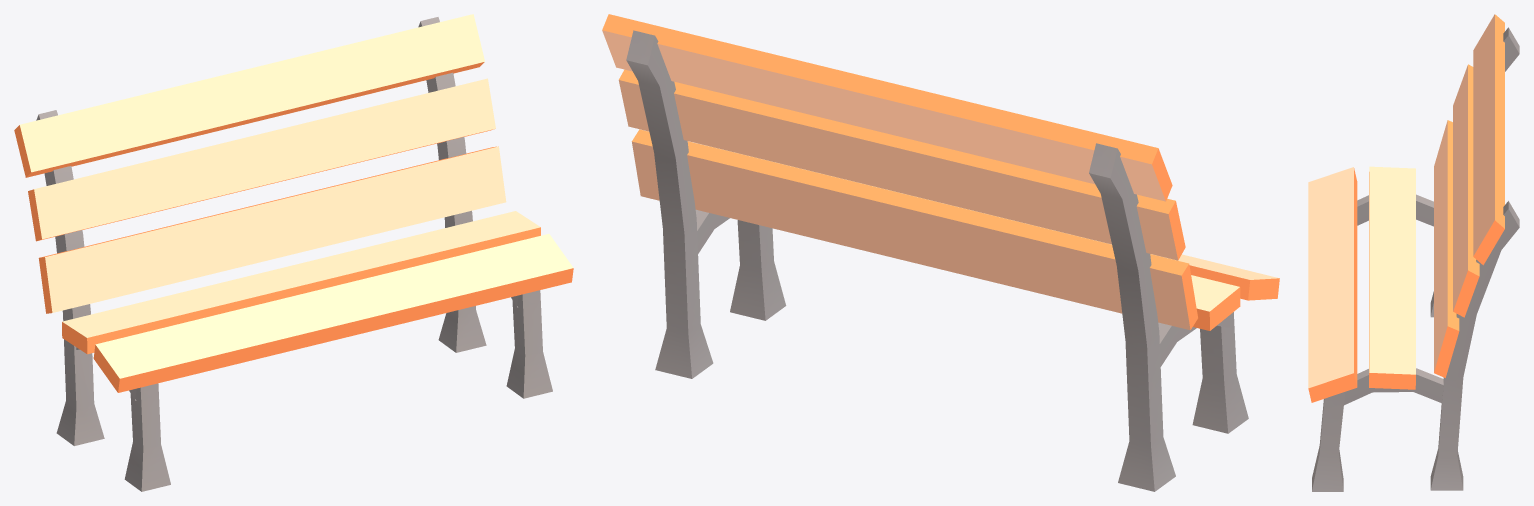
The model's file is city2-bench-01.glb.
3 views of the same model, side by side, from view 1: azimuth 30°, elevation 25°; view 2: azimuth 150°, elevation 25°; view 3: azimuth 270°, elevation 25° (orthographic). The views are drawn at different scales.
Visible parts, largest first — view 1: Bench_01; view 2: Bench_01; view 3: Bench_01.
Part boxes in pixels (box(x1,y1,x2,y2)): Bench_01: box(14, 14, 573, 491); Bench_01: box(602, 14, 1279, 491); Bench_01: box(1308, 14, 1519, 491).
Size of the model in its own units: 1.7 by 1.08 by 0.7362.
1 material, 1 textured.
